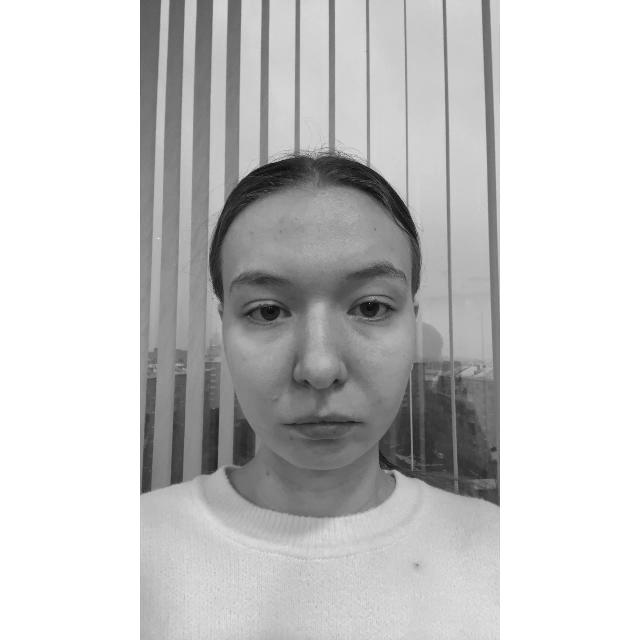real: (220, 201, 416, 464)
